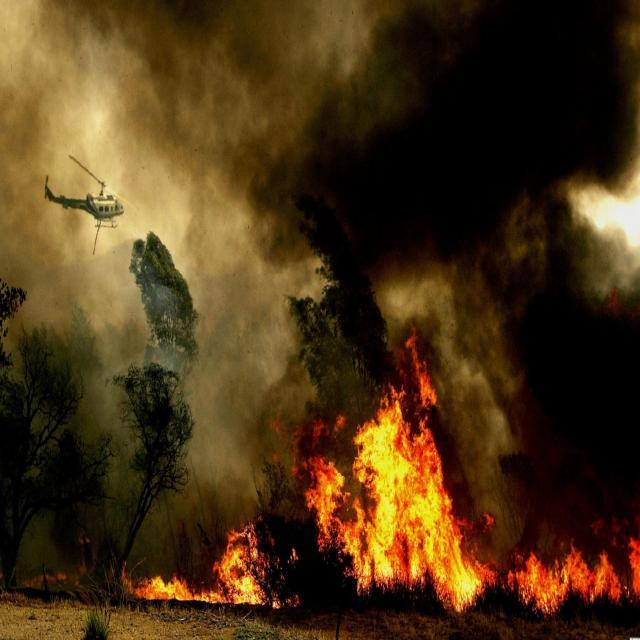Fire: (130, 382, 640, 612)
Smoke: (70, 0, 640, 383)
